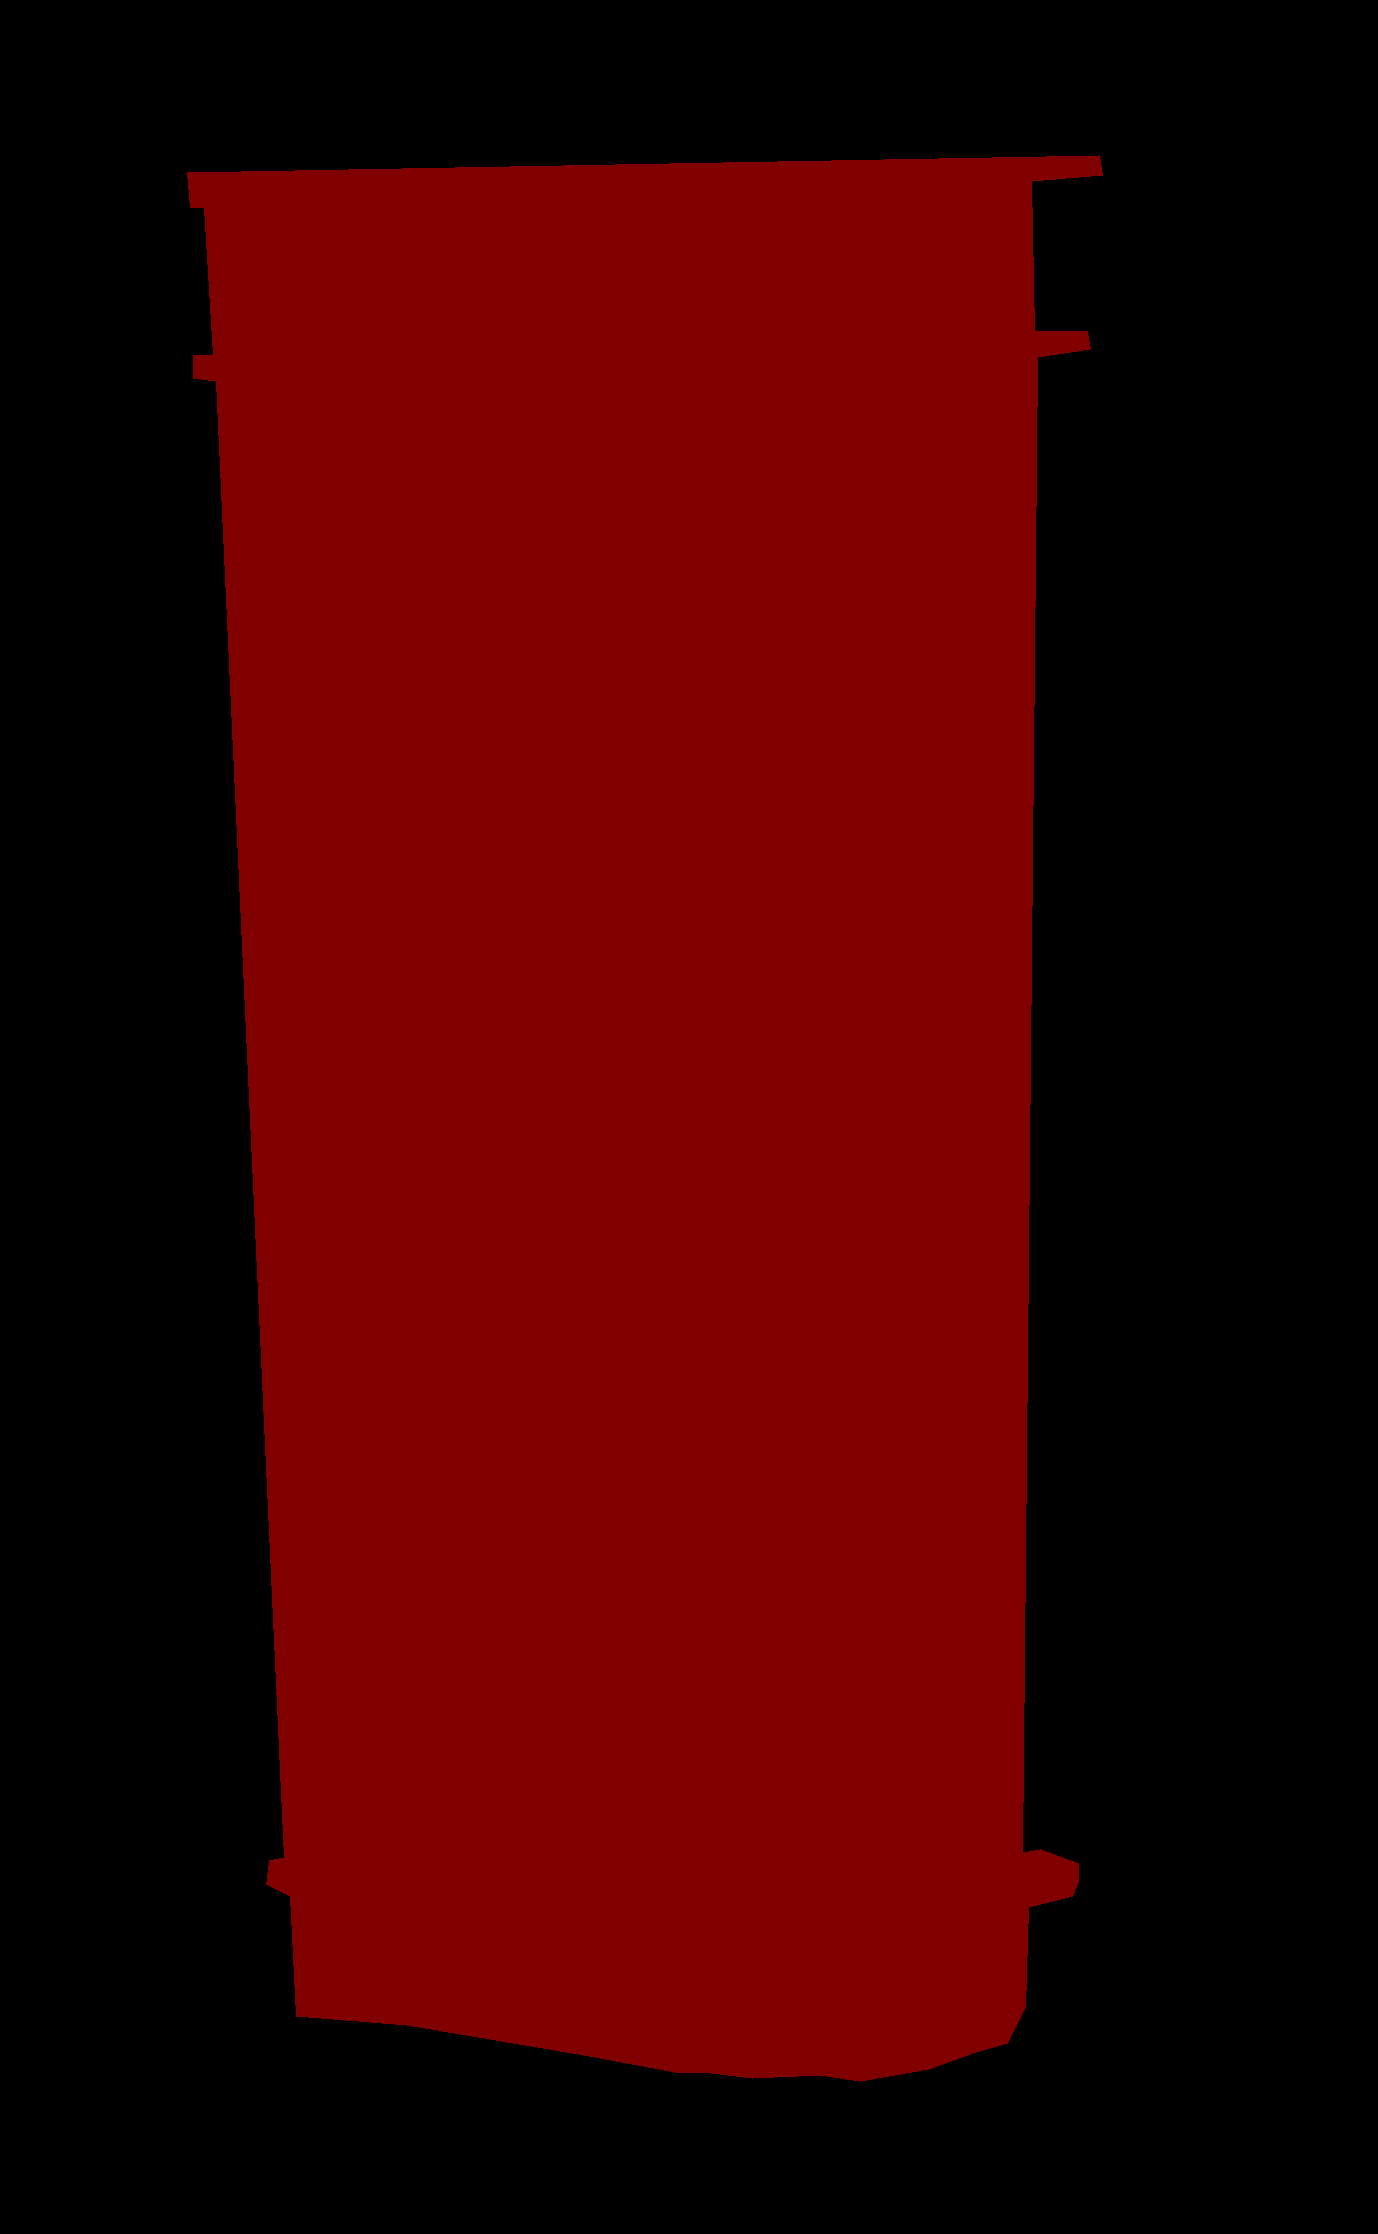sign: (187, 155, 1102, 2081)
